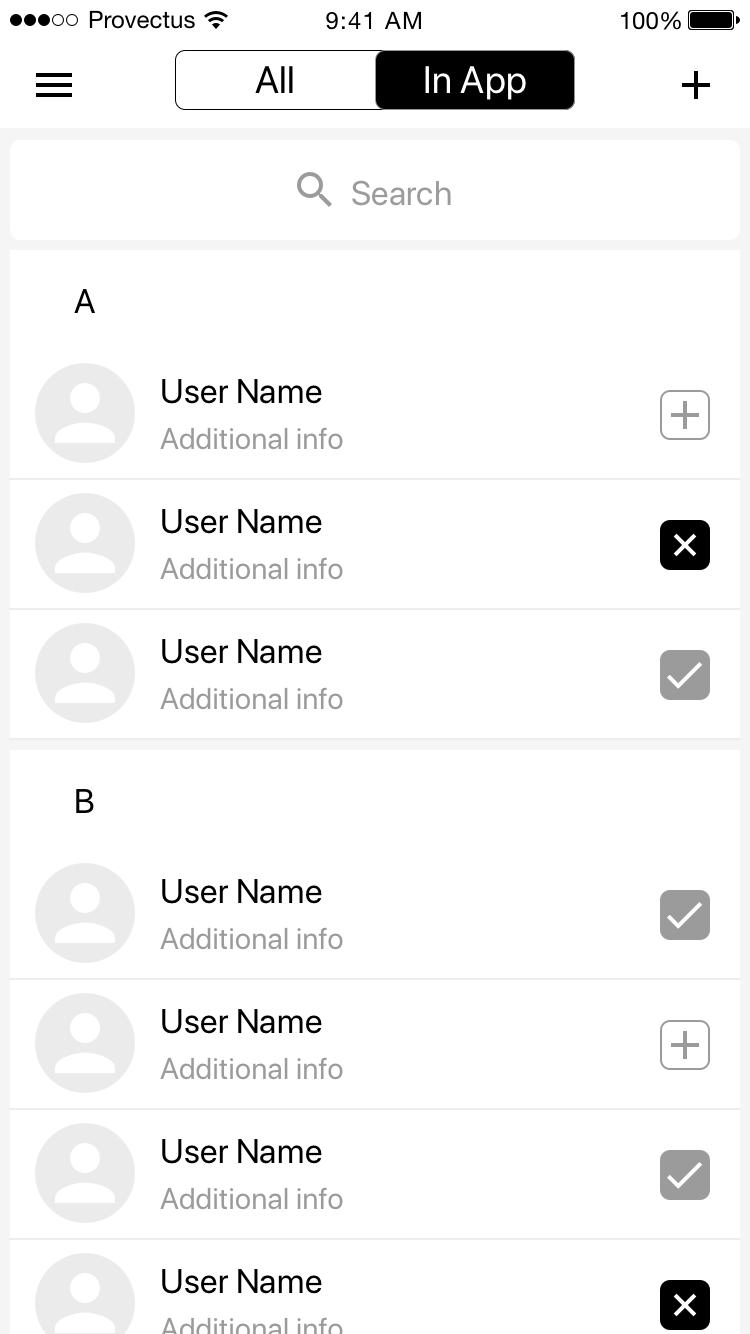EditText: (8, 141, 741, 241)
Icon: (36, 493, 136, 594), (35, 623, 135, 724), (35, 993, 136, 1093), (35, 864, 134, 966), (35, 1123, 135, 1223), (36, 364, 136, 462), (38, 1252, 136, 1333), (659, 1279, 711, 1330), (660, 520, 711, 571), (660, 390, 710, 442), (659, 1150, 711, 1200), (660, 650, 711, 700), (660, 1020, 711, 1070), (659, 891, 711, 940), (297, 172, 333, 209), (36, 73, 74, 99), (681, 72, 711, 100)
Text: (158, 427, 346, 453), (160, 378, 324, 407), (161, 1137, 322, 1166), (160, 1186, 344, 1211), (160, 556, 343, 581), (162, 1056, 344, 1081), (161, 878, 323, 905), (161, 1268, 323, 1295), (161, 687, 343, 711), (162, 508, 323, 535), (161, 638, 322, 665), (162, 927, 344, 950), (162, 1008, 323, 1034), (163, 1316, 341, 1334), (352, 181, 452, 207), (70, 287, 97, 317), (75, 789, 97, 813)
TextButton: (376, 50, 576, 112), (175, 50, 378, 111)
UpperTaskBar: (1, 1, 750, 33)
